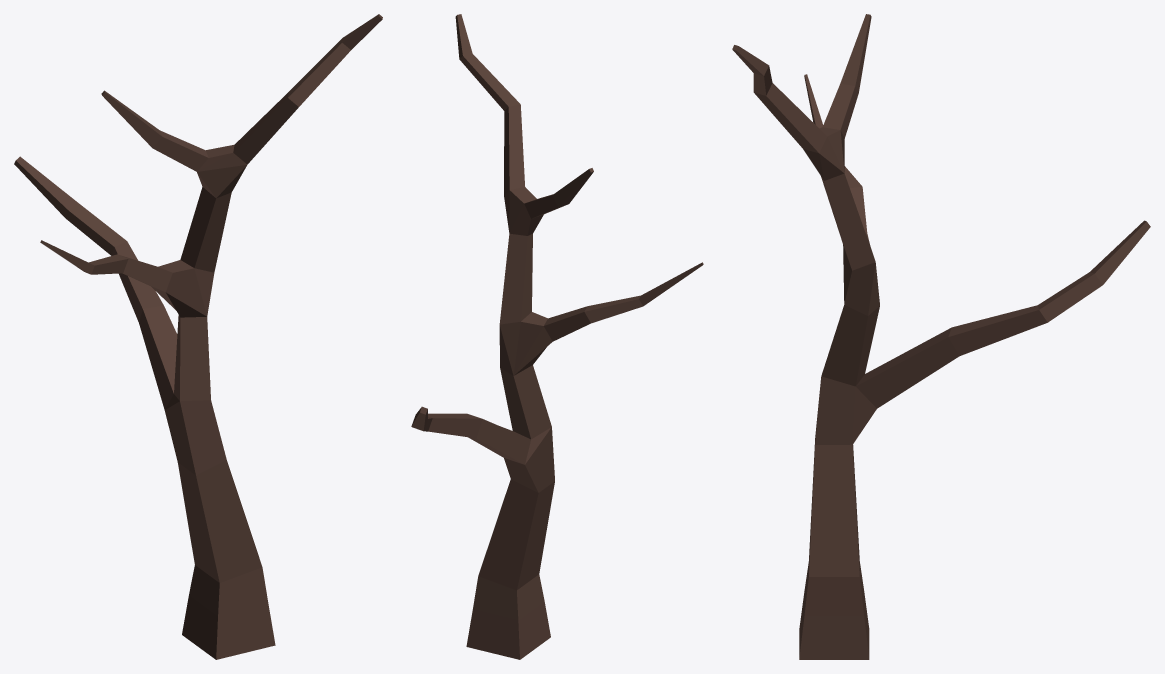
File: mesh_bush_small.fbx
3 renders of one model, left to right at view 1: azimuth 30°, elevation 25°; view 2: azimuth 150°, elevation 25°; view 3: azimuth 270°, elevation 25°, orthographic. The views are drawn at different scales.
Parts seen in each view (by area): view 1: Cube.003; view 2: Cube.003; view 3: Cube.003.
Boxes of the visible parts, bbox=[...] form: Cube.003: bbox=[14, 14, 382, 659]; Cube.003: bbox=[411, 14, 703, 659]; Cube.003: bbox=[732, 14, 1150, 659].
Size of the model in its own units: 27.96 by 55.03 by 32.08.
